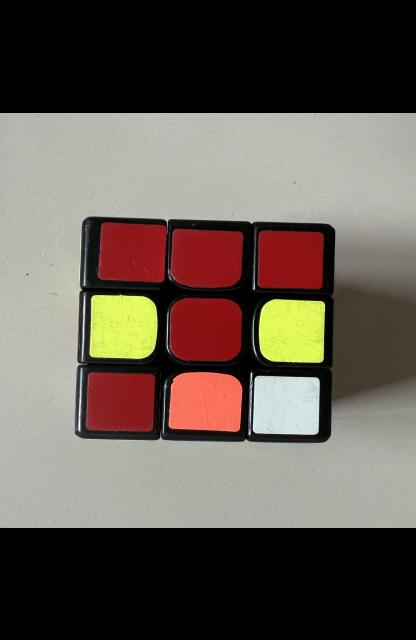Orange: (169, 371, 242, 430)
Red: (169, 297, 242, 360), (170, 228, 243, 286), (98, 221, 167, 281), (86, 371, 156, 430), (258, 230, 324, 289)
White: (253, 375, 320, 434)
Yellow: (89, 294, 158, 358), (258, 298, 326, 362)
